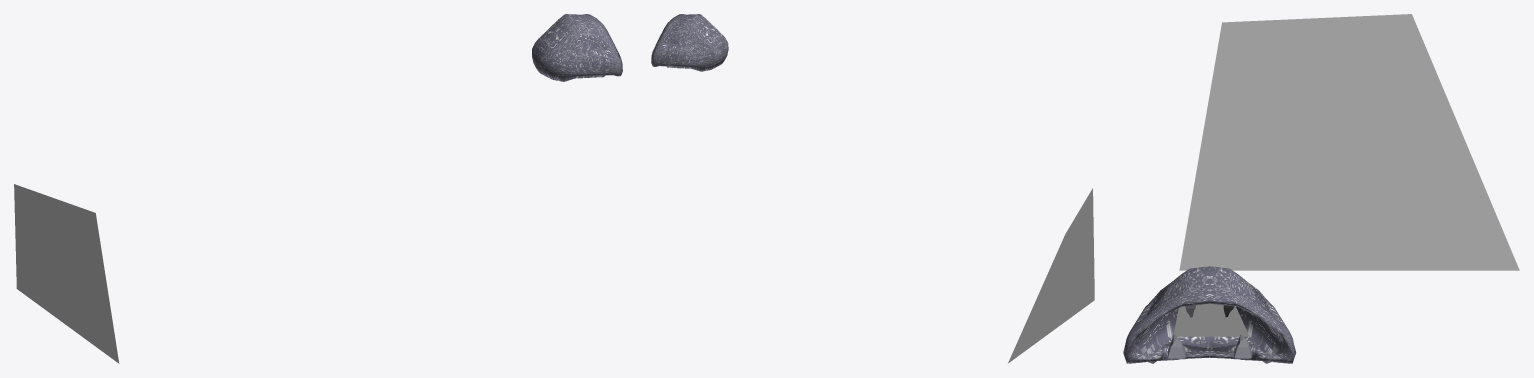
File: caveway.fbx
3 renders of one model, left to right at view 1: azimuth 30°, elevation 25°; view 2: azimuth 150°, elevation 25°; view 3: azimuth 270°, elevation 25°, orthographic. The views are drawn at different scales.
Visible parts, largest first — view 1: Plane.001, Plane.002; view 2: Plane.001, Plane.002; view 3: Plane.001, Plane.002.
Boxes of the visible parts, x1,y1,x2,y2 form: Plane.001: (14,184,119,363); Plane.002: (532,14,622,81); Plane.001: (1008,188,1094,363); Plane.002: (651,14,728,71); Plane.001: (1179,14,1519,270); Plane.002: (1123,266,1296,363).
Size of the model in its own units: 14274 by 5936 by 5643.
